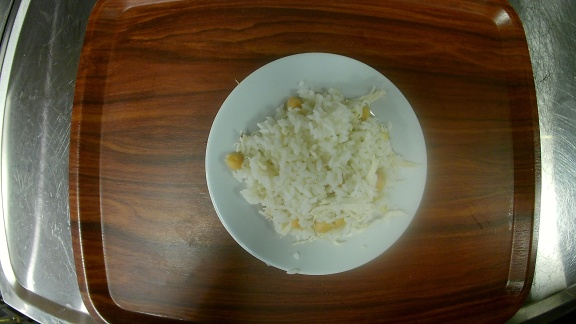nohutlupilav: (207, 53, 429, 273)
